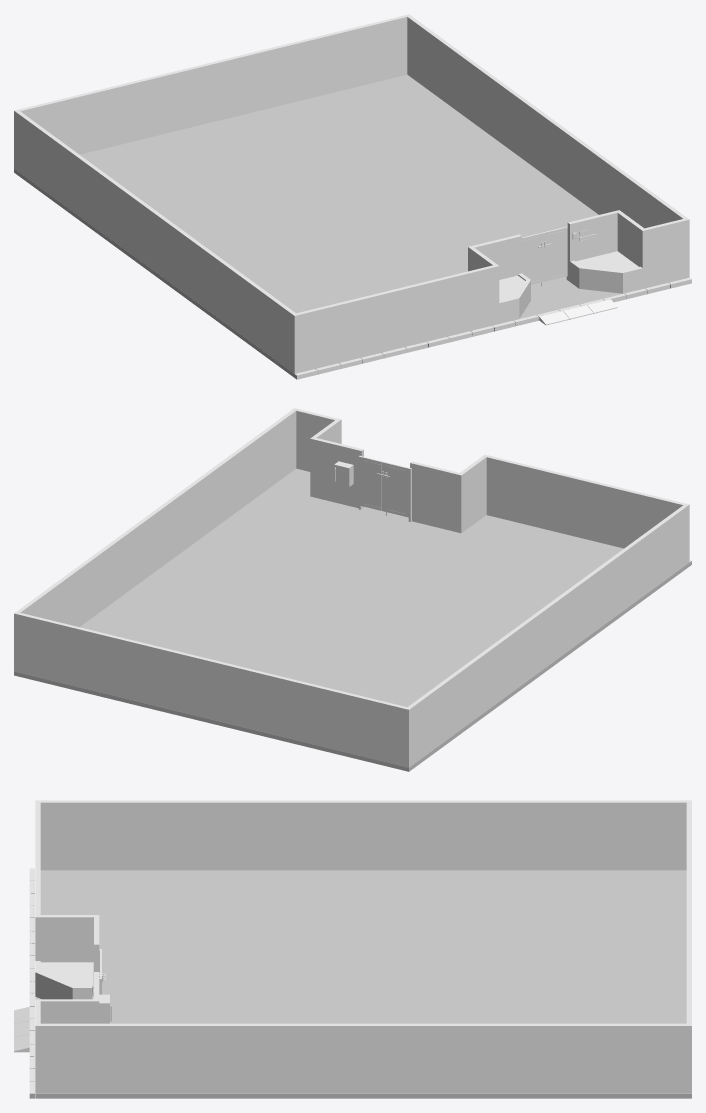
File: Property_C2.fbx
The picture shows the model from 3 angles, top to bottom: view 1: azimuth 30°, elevation 25°; view 2: azimuth 150°, elevation 25°; view 3: azimuth 270°, elevation 25°; orthographic projection. The views are drawn at different scales.
Visible parts, largest first — view 1: Ground.027, Wall.055, Wall.058, Wall.057, Wall.056, Door.050, Door.047, Step.013; view 2: Ground.027, Wall.058, Wall.055, Wall.057, Wall.056, Door.050, Door.047; view 3: Ground.027, Wall.056, Wall.057, Wall.055, Wall.058, Step.013.
Boxes of the visible parts, x1=… form: Ground.027: x1=14, y1=74, x2=691, y2=379; Wall.055: x1=292, y1=210, x2=689, y2=373; Wall.058: x1=18, y1=15, x2=407, y2=154; Wall.057: x1=14, y1=109, x2=295, y2=371; Wall.056: x1=405, y1=14, x2=686, y2=228; Door.050: x1=543, y1=226, x2=567, y2=281; Door.047: x1=522, y1=232, x2=544, y2=284; Step.013: x1=539, y1=299, x2=617, y2=325; Ground.027: x1=14, y1=468, x2=691, y2=771; Wall.058: x1=18, y1=613, x2=406, y2=766; Wall.055: x1=292, y1=408, x2=689, y2=563; Wall.057: x1=405, y1=505, x2=687, y2=767; Wall.056: x1=14, y1=410, x2=296, y2=672; Door.050: x1=360, y1=456, x2=385, y2=511; Door.047: x1=383, y1=462, x2=409, y2=517; Ground.027: x1=29, y1=868, x2=691, y2=1098; Wall.056: x1=40, y1=1023, x2=691, y2=1093; Wall.057: x1=40, y1=800, x2=691, y2=870; Wall.055: x1=35, y1=800, x2=109, y2=1093; Wall.058: x1=686, y1=802, x2=691, y2=1023; Step.013: x1=14, y1=1007, x2=29, y2=1052.
Size of the model in its own units: 1000 by 150 by 1270.
